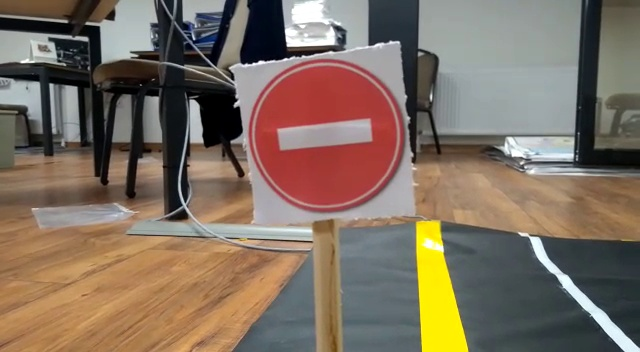girisi_olmayan_yol: (250, 61, 416, 209)
